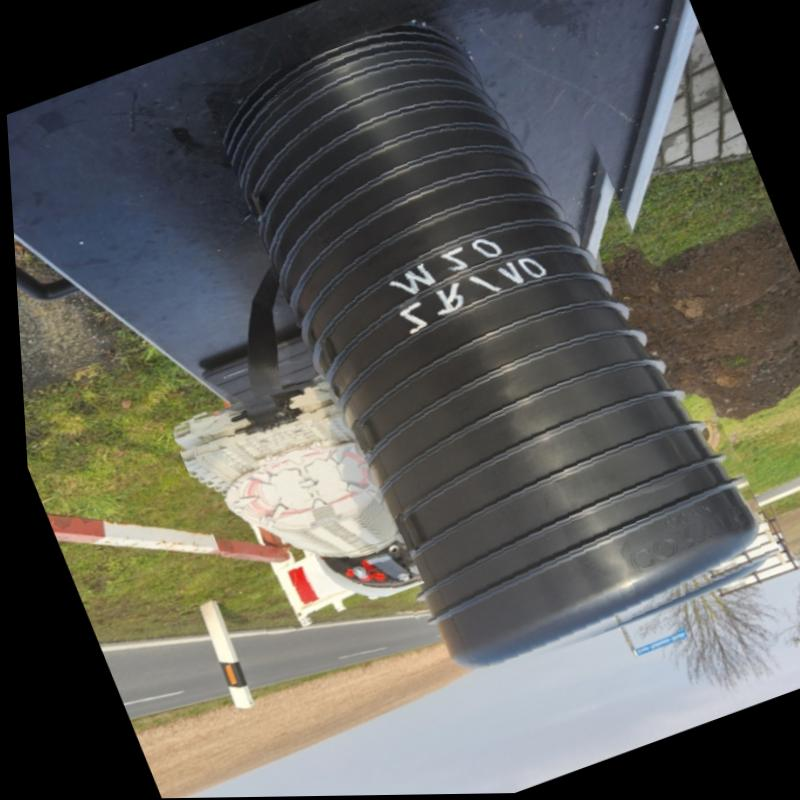NT-Muffen: (222, 20, 763, 682), (169, 379, 415, 599)
